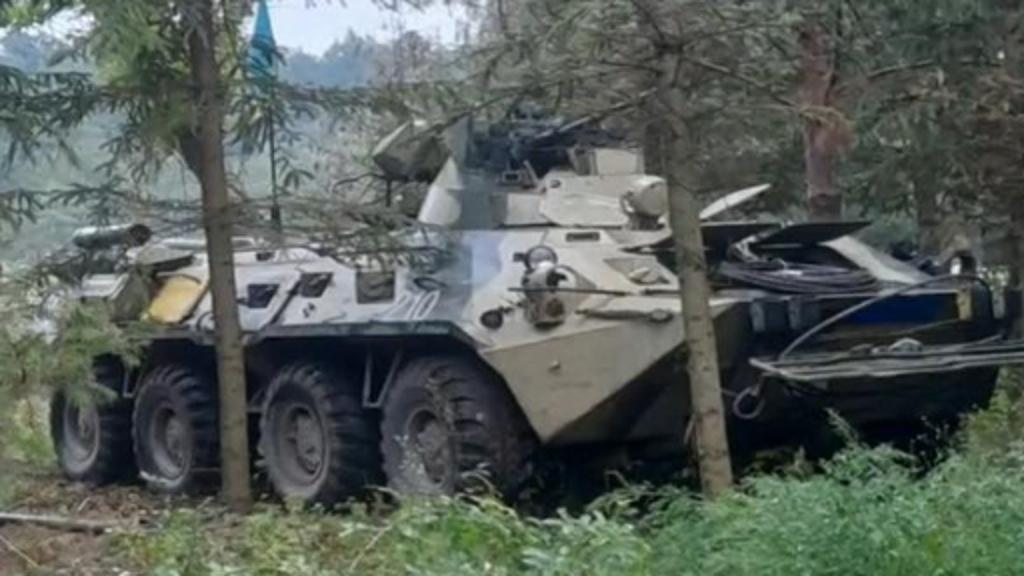APC-IFV: (2, 102, 1020, 528)
